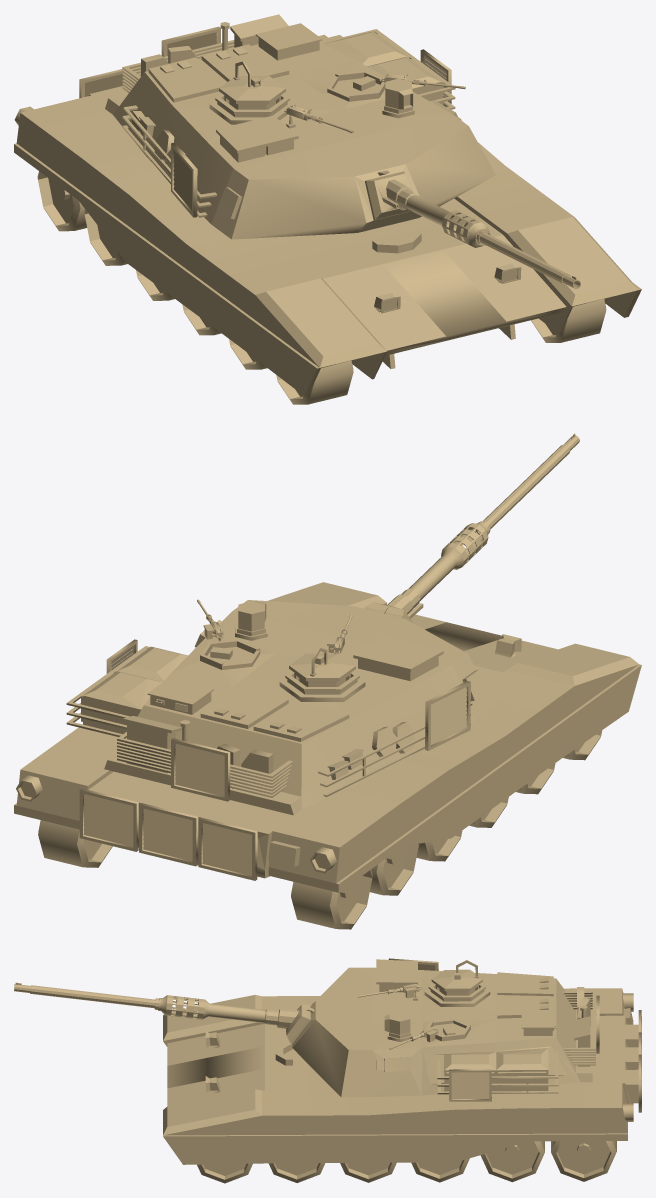
Rendered from tank.fbx.
3 renders of one model, top to bottom at view 1: azimuth 30°, elevation 25°; view 2: azimuth 150°, elevation 25°; view 3: azimuth 270°, elevation 25°, orthographic. The views are drawn at different scales.
Visible parts, largest first — view 1: Object001; view 2: Object001; view 3: Object001.
Part boxes in pixels (box(x1,y1,x2,y2)): Object001: box(14, 14, 641, 404); Object001: box(14, 433, 641, 929); Object001: box(14, 958, 641, 1183).
Bounding box in the file's own units: 241 × 143 × 526.
